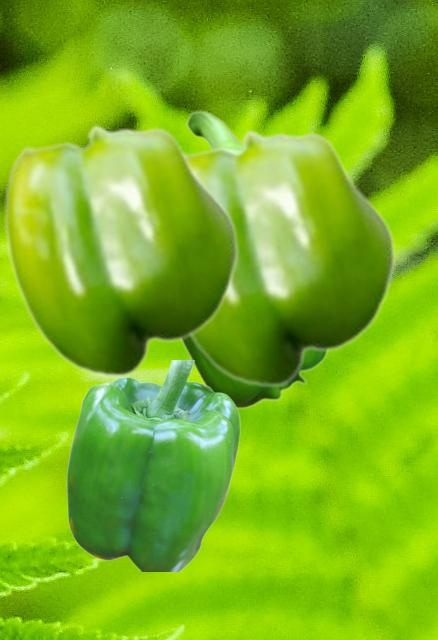bell_pepper: (4, 124, 238, 377), (186, 129, 395, 387), (181, 110, 328, 408), (66, 360, 239, 570)
